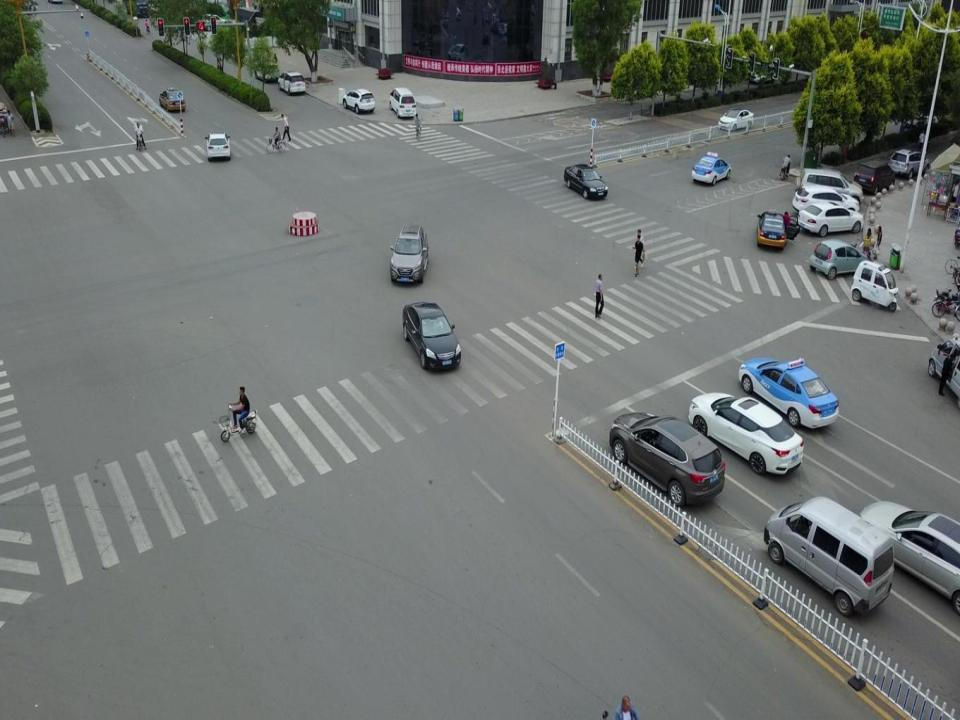car: (857, 498, 960, 617), (608, 412, 726, 506), (688, 391, 804, 475), (738, 358, 838, 429), (402, 301, 462, 370), (793, 167, 864, 207), (808, 238, 872, 280), (796, 201, 865, 237), (791, 185, 860, 221), (389, 224, 428, 284), (756, 209, 800, 249), (563, 164, 608, 198), (691, 150, 731, 187), (888, 148, 931, 179), (342, 87, 376, 114), (718, 107, 754, 132), (205, 131, 231, 159), (158, 87, 186, 112), (276, 71, 305, 94), (253, 61, 279, 83), (200, 13, 228, 31)
van: (764, 494, 894, 617), (924, 334, 960, 410), (853, 158, 896, 196), (389, 87, 416, 118)
